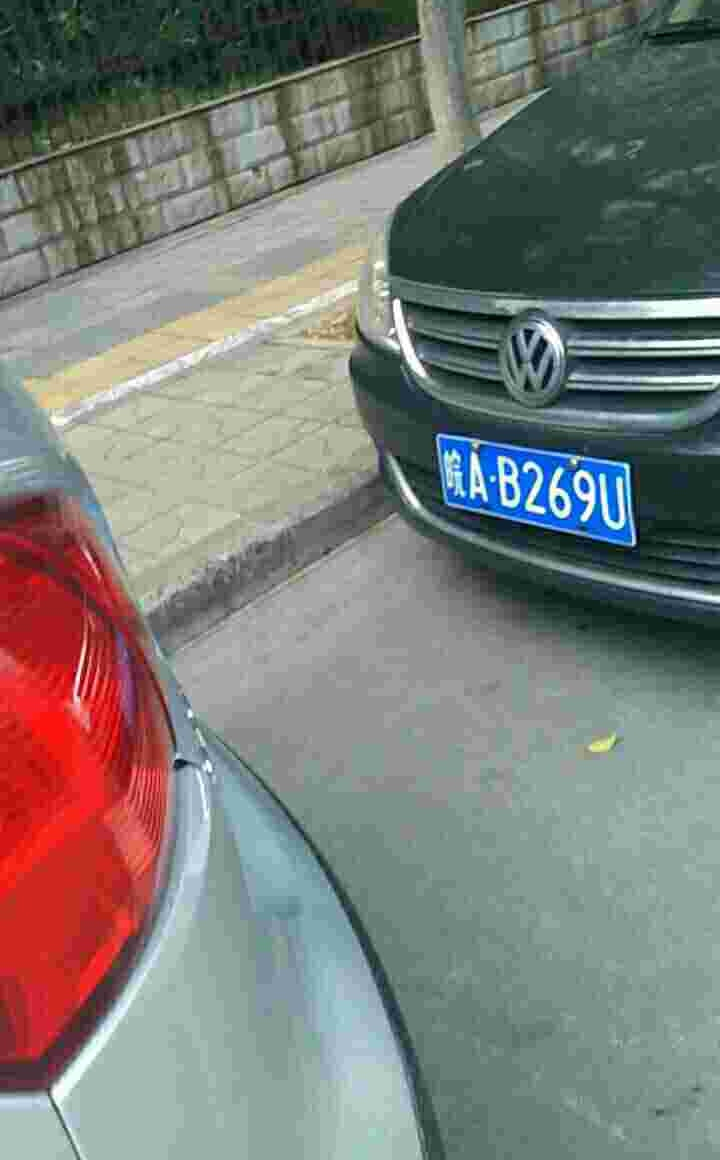license_plate: (440, 430, 631, 533)
